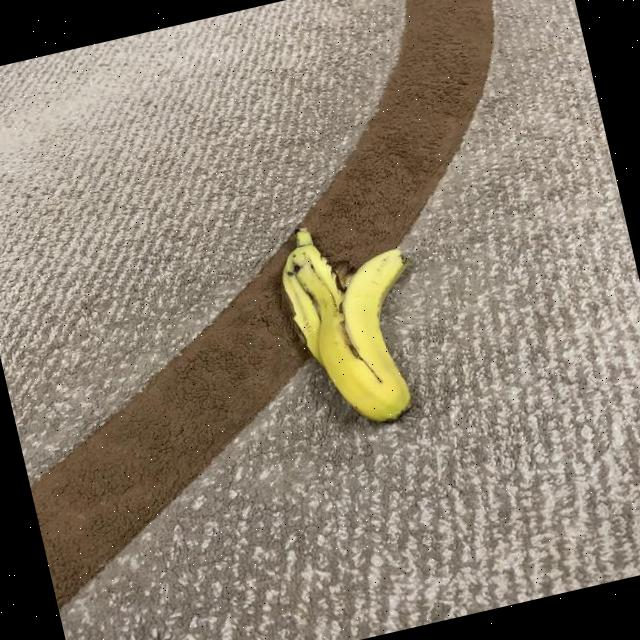banana-peel: (270, 206, 440, 438)
